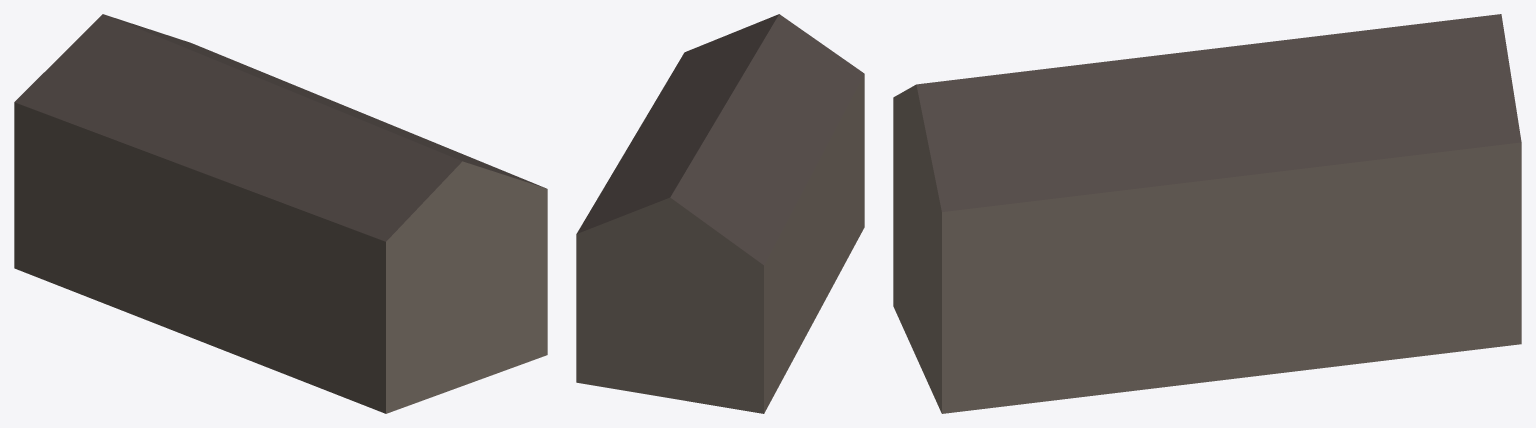
3 renders of one model, left to right at view 1: azimuth 30°, elevation 25°; view 2: azimuth 150°, elevation 25°; view 3: azimuth 270°, elevation 25°, orthographic. The views are drawn at different scales.
Visible parts, largest first — view 1: HP-w1512495272; view 2: HP-w1512495272; view 3: HP-w1512495272.
Part boxes in pixels (bbox=[...]): HP-w1512495272: bbox=[14, 14, 547, 413]; HP-w1512495272: bbox=[576, 14, 864, 413]; HP-w1512495272: bbox=[893, 14, 1521, 413].
Bounding box in the file's own units: 11.76 × 8.11 × 16.93.
